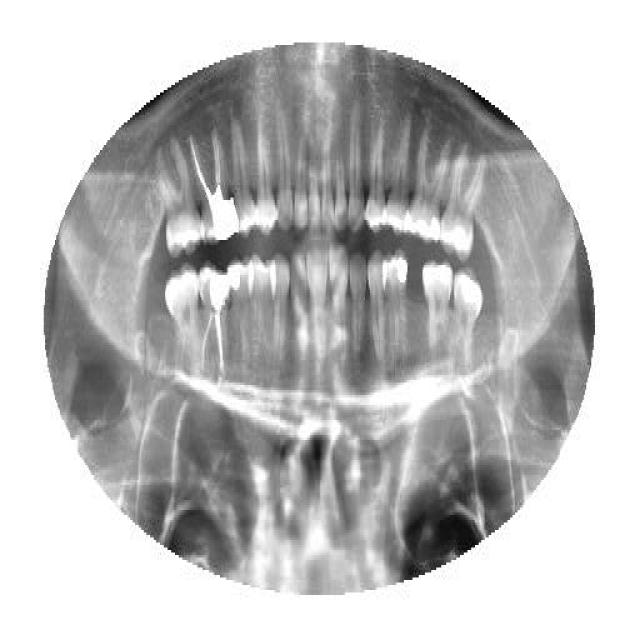Fillings: (438, 135, 484, 265), (406, 127, 452, 245), (450, 272, 482, 372), (422, 262, 452, 362), (228, 252, 252, 368), (385, 248, 407, 358)
Implant: (188, 128, 238, 248), (198, 262, 228, 378)
